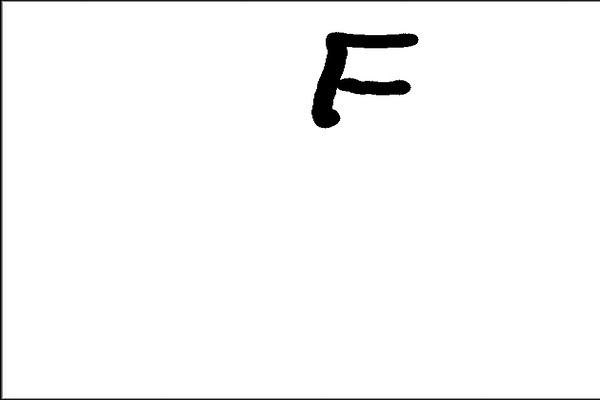F: (307, 24, 420, 131)
